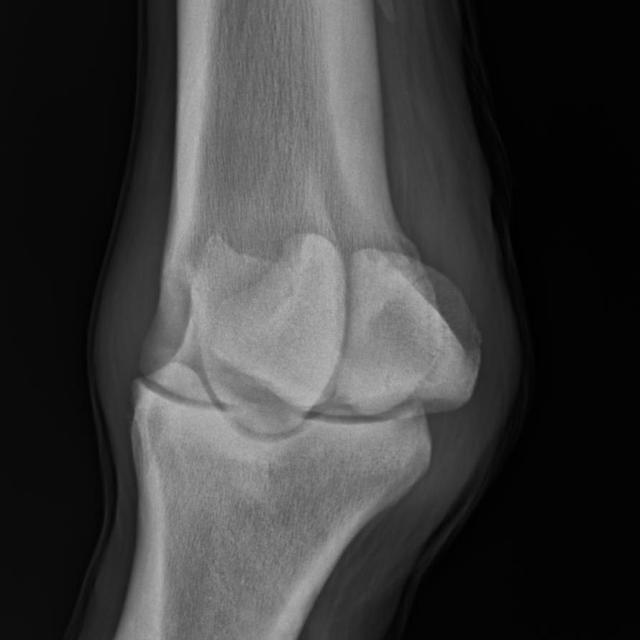bone remodeling: (124, 367, 162, 414)
